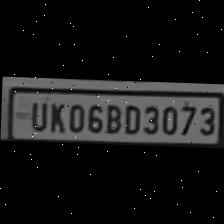0: (158, 102, 178, 136), (64, 100, 84, 133)
3: (140, 101, 160, 135), (196, 103, 216, 136)
6: (84, 101, 102, 134)
7: (176, 101, 196, 135)
B: (102, 100, 120, 134)
D: (120, 100, 140, 134)
K: (45, 99, 65, 133)
U: (25, 98, 47, 132)
